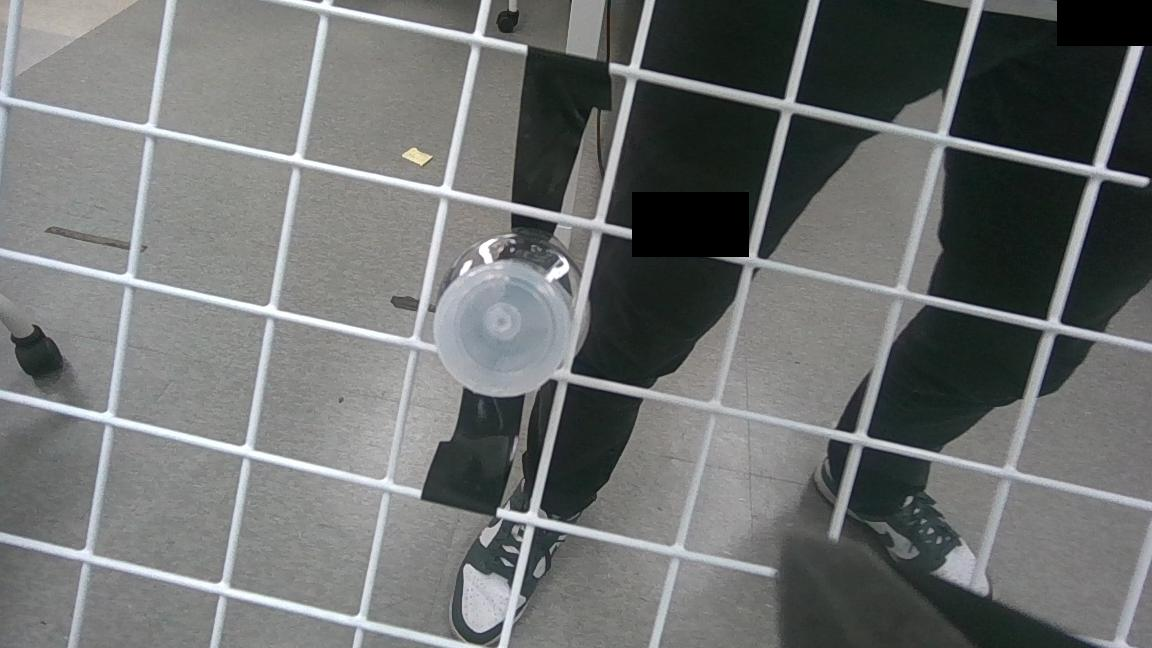Cap: (432, 269, 574, 398)
